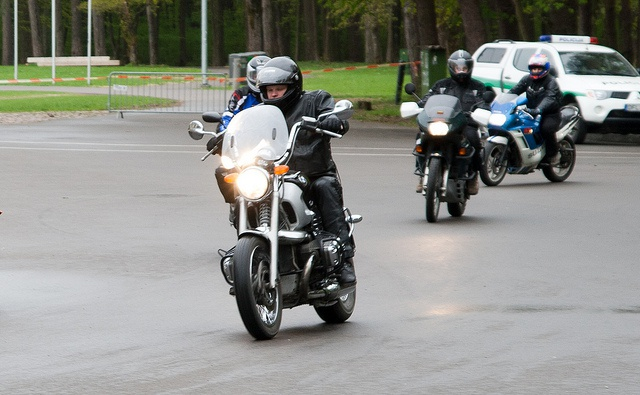non-vehicle: (186, 99, 361, 339), (399, 82, 493, 222), (477, 83, 582, 187), (200, 110, 236, 224)
